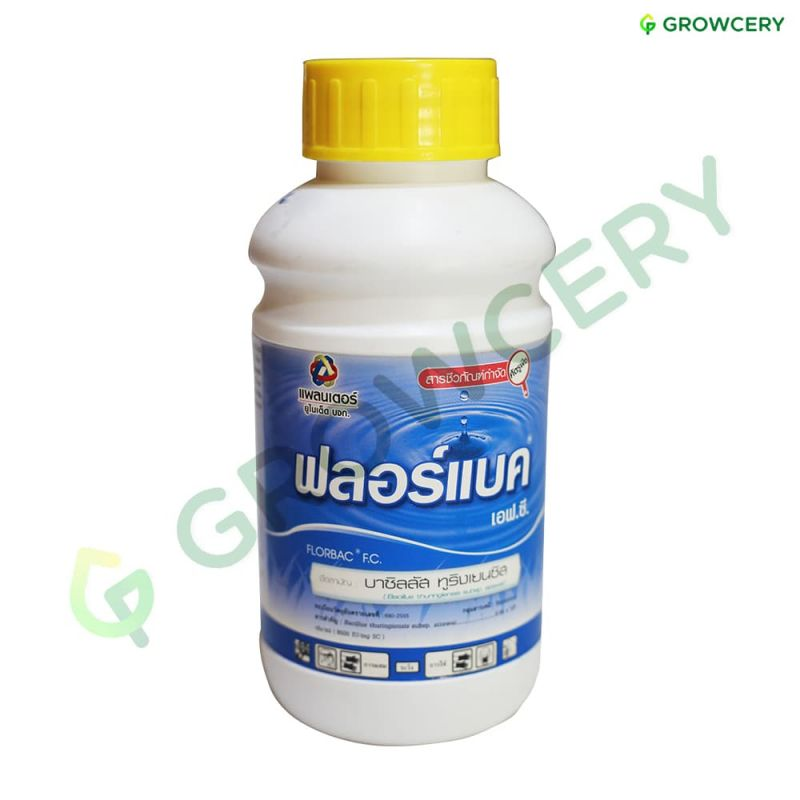Insecticide: (241, 48, 563, 752)
